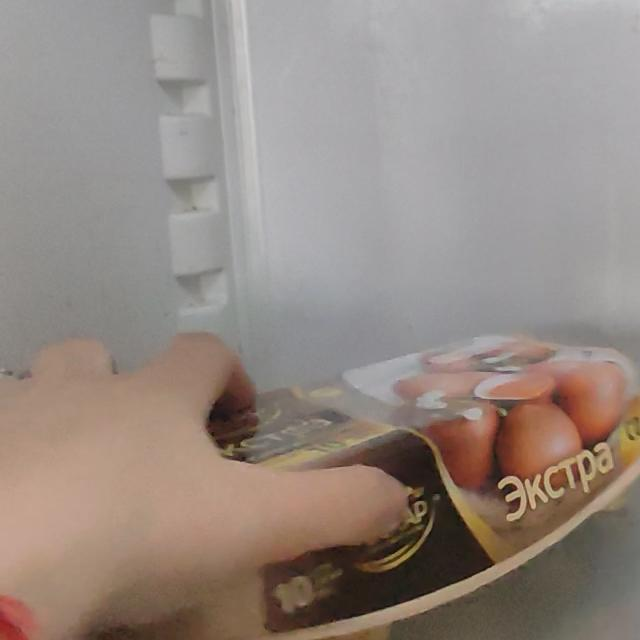egg: (73, 320, 640, 640)
